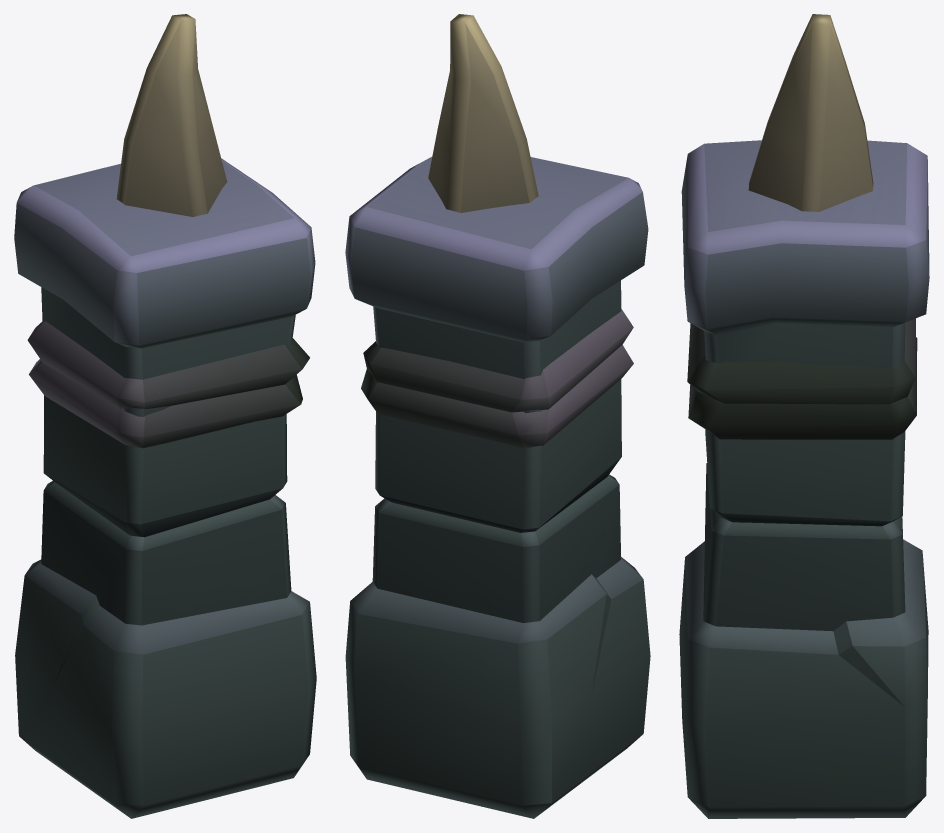
Rendered from undead_column_1.fbx.
3 views of the same model, side by side, from view 1: azimuth 30°, elevation 25°; view 2: azimuth 150°, elevation 25°; view 3: azimuth 270°, elevation 25° (orthographic). The views are drawn at different scales.
Visible parts, largest first — view 1: undead_column_1; view 2: undead_column_1; view 3: undead_column_1.
Boxes of the visible parts, bbox=[...] form: undead_column_1: bbox=[14, 14, 316, 818]; undead_column_1: bbox=[345, 14, 650, 818]; undead_column_1: bbox=[679, 14, 929, 818].
Size of the model in its own units: 1.62 by 5.5 by 1.61.
